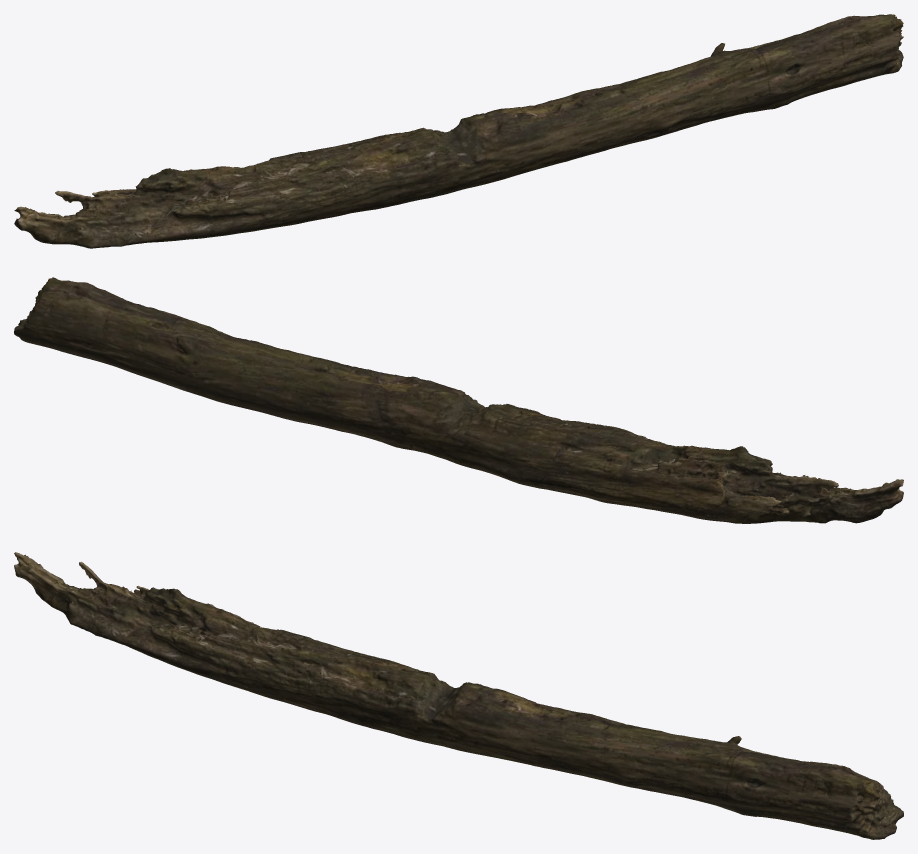
Rendered from dead_tree_trunk.glb.
3 renders of one model, top to bottom at view 1: azimuth 30°, elevation 25°; view 2: azimuth 150°, elevation 25°; view 3: azimuth 330°, elevation 25°, orthographic.
Visible parts, largest first — view 1: dead_tree_trunk; view 2: dead_tree_trunk; view 3: dead_tree_trunk.
Part boxes in pixels (box(x1,y1,x2,y2)): dead_tree_trunk: box(14, 14, 903, 248); dead_tree_trunk: box(14, 277, 903, 523); dead_tree_trunk: box(14, 552, 903, 839).
Size of the model in its own units: 3.05 by 0.2905 by 0.2775.
Materials: 1 (1 with a texture image).
